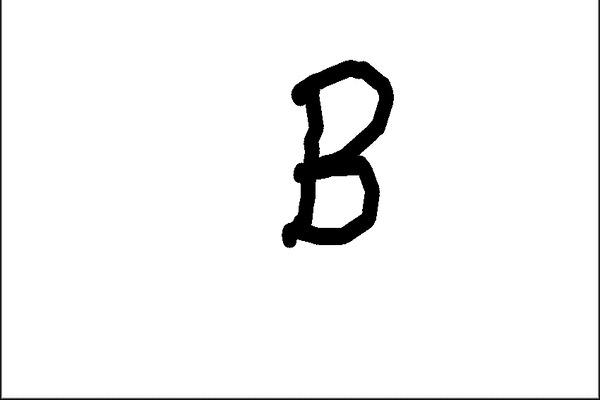B: (273, 48, 398, 256)
